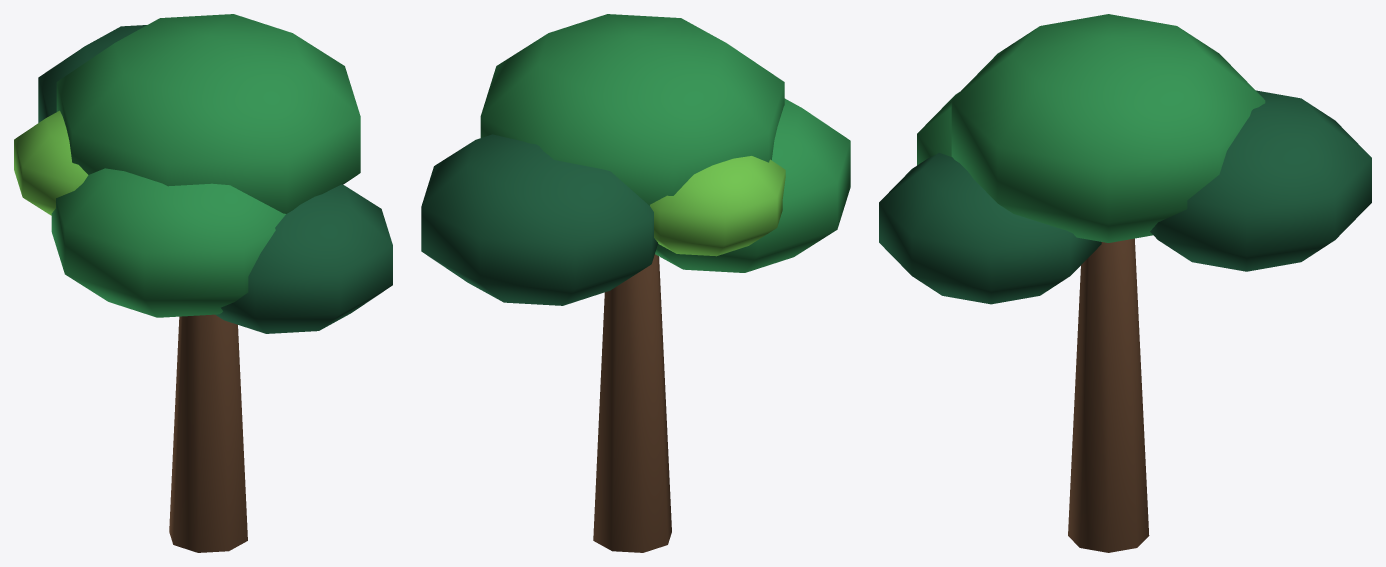
File: jungle_canopy_far.glb
The picture shows the model from 3 angles, left to right: view 1: azimuth 30°, elevation 25°; view 2: azimuth 150°, elevation 25°; view 3: azimuth 270°, elevation 25°; orthographic projection.
Visible parts, largest first — view 1: CanopyFar; view 2: CanopyFar; view 3: CanopyFar.
Part boxes in pixels (x1,y1,x2,y2): CanopyFar: [14, 14, 392, 552]; CanopyFar: [421, 14, 850, 552]; CanopyFar: [879, 14, 1371, 552].
Size of the model in its own units: 7.47 by 11.5 by 10.31.
